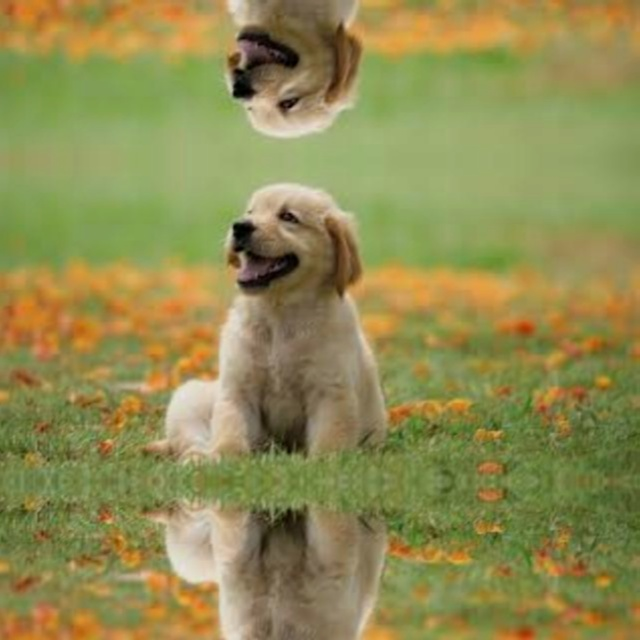dog: (213, 171, 371, 331), (213, 0, 371, 147), (213, 629, 371, 640)
